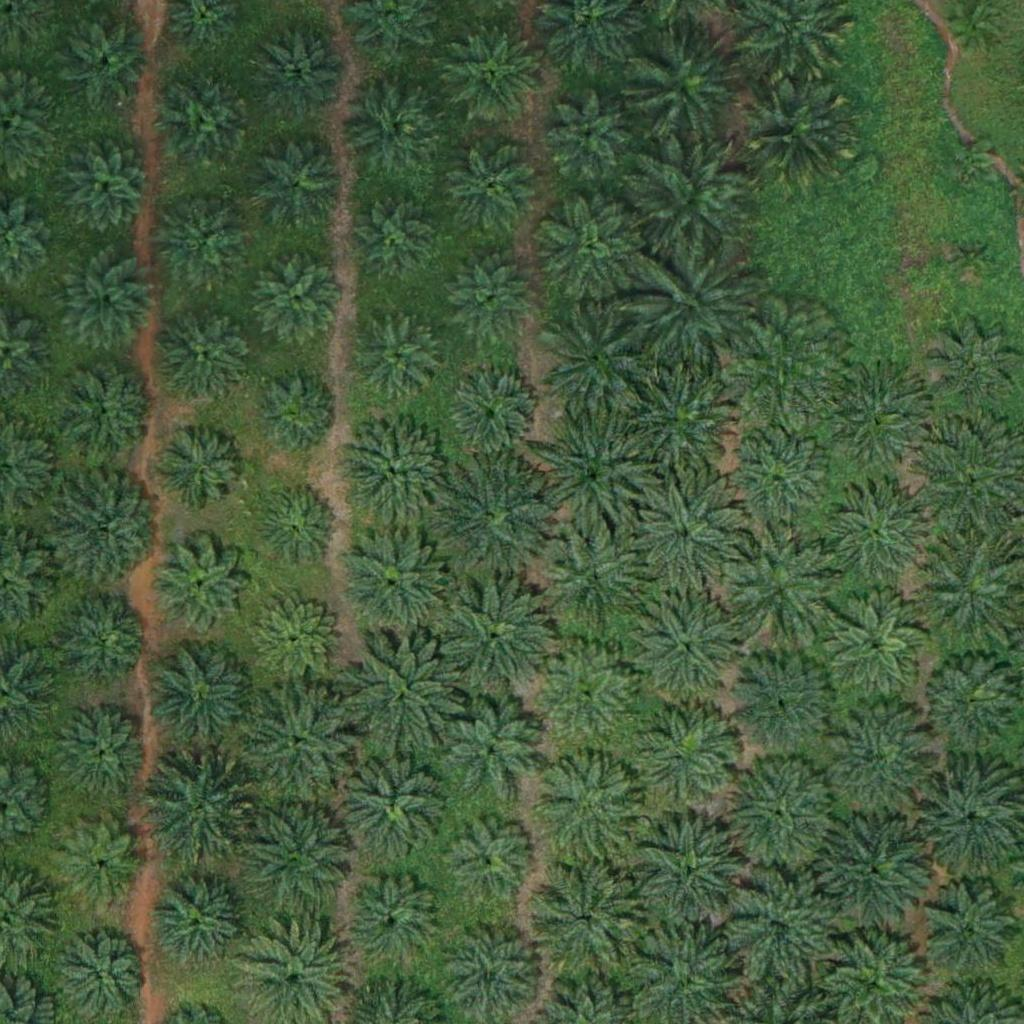Kelapa_Sawit: (727, 309, 840, 423), (639, 141, 752, 255), (639, 248, 752, 362), (50, 471, 163, 585), (147, 641, 260, 755), (139, 754, 252, 868), (145, 863, 258, 976), (336, 414, 449, 527), (337, 530, 450, 643), (440, 463, 553, 576), (438, 581, 551, 694), (534, 753, 647, 866), (526, 862, 639, 975), (619, 363, 732, 476), (722, 425, 835, 538), (726, 532, 839, 645), (723, 646, 836, 759), (826, 700, 939, 813), (818, 810, 931, 923), (624, 25, 736, 139), (245, 686, 357, 800), (242, 798, 354, 912), (339, 866, 451, 980), (817, 357, 929, 471), (821, 472, 933, 586), (742, 69, 854, 182), (535, 192, 647, 305), (542, 306, 654, 419), (52, 241, 164, 354), (346, 636, 458, 749), (340, 749, 452, 862), (537, 421, 649, 534), (539, 523, 651, 636), (628, 482, 740, 595), (629, 593, 741, 706), (634, 817, 746, 930), (722, 760, 834, 873), (723, 872, 835, 985), (443, 133, 543, 234), (344, 78, 444, 179), (248, 21, 348, 122), (248, 133, 348, 234), (153, 190, 253, 291), (154, 303, 254, 404), (54, 140, 154, 241), (439, 698, 539, 799), (535, 644, 635, 745), (635, 704, 735, 805), (825, 591, 925, 692), (920, 882, 1020, 983), (440, 25, 540, 125), (52, 590, 152, 690), (52, 704, 152, 804), (149, 536, 249, 636), (921, 648, 1021, 748), (61, 16, 149, 105), (445, 254, 533, 342), (450, 371, 538, 459), (347, 196, 435, 284), (156, 427, 244, 515), (254, 481, 342, 569), (251, 595, 339, 683), (354, 313, 441, 402), (254, 253, 341, 342), (545, 89, 632, 177), (160, 75, 247, 163), (62, 366, 149, 454), (57, 820, 144, 908), (252, 369, 339, 457), (448, 817, 535, 905), (952, 2, 1002, 53), (954, 147, 991, 185), (950, 238, 987, 276)
